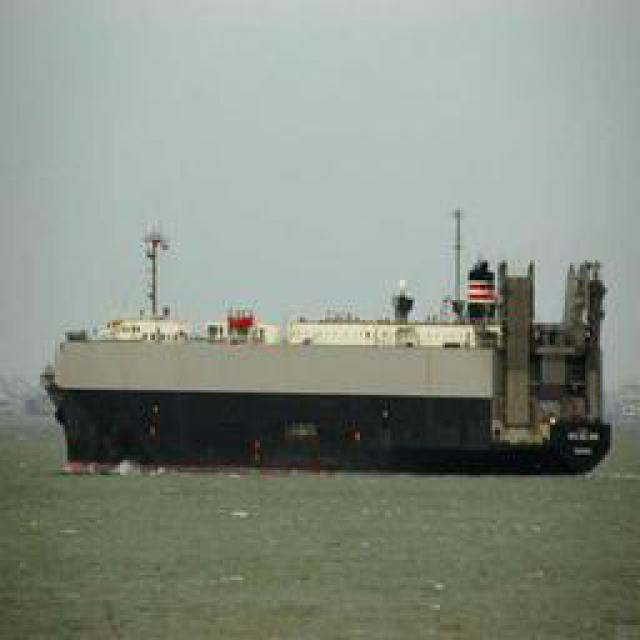Ship: (44, 224, 624, 474)
